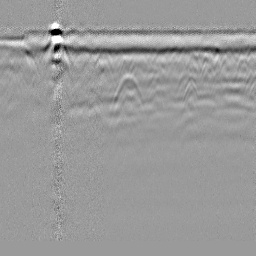cavity: (113, 67, 144, 107)
